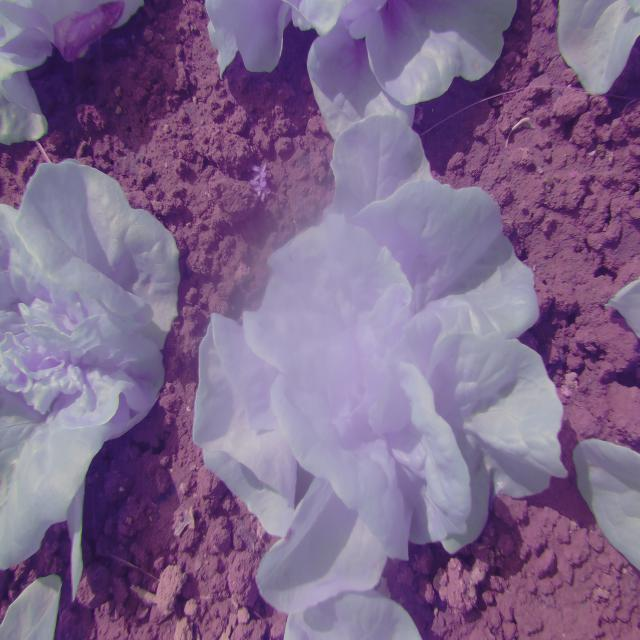vege: (192, 122, 570, 600)
